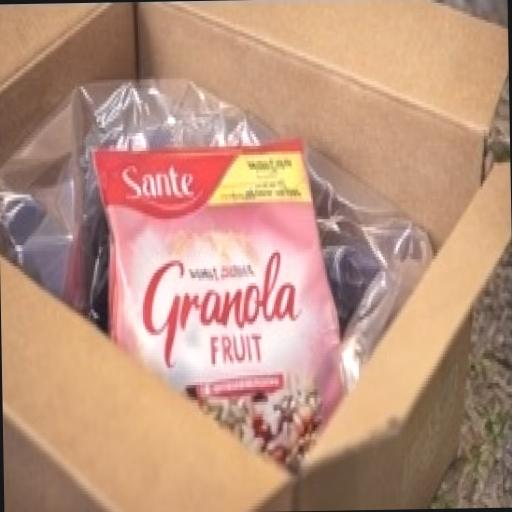granola: (54, 102, 380, 489)
